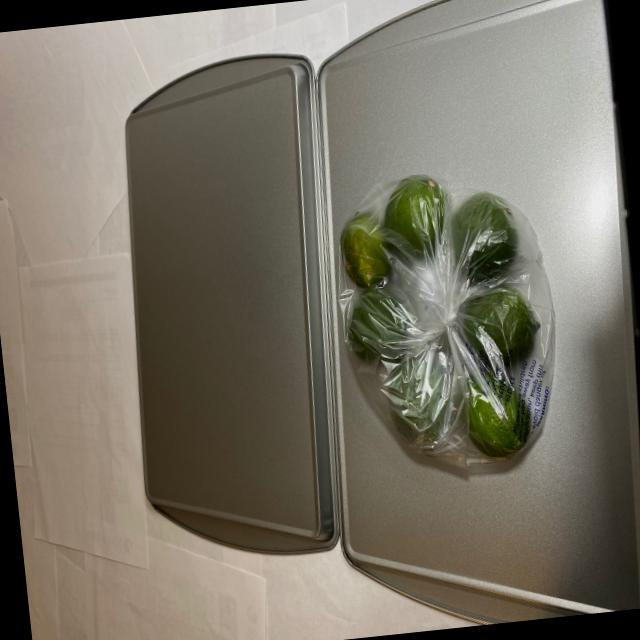lemon: (332, 170, 544, 468)
